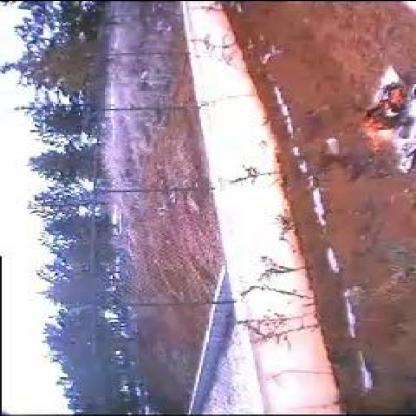-: (351, 152, 379, 169)
foggia-v2-map80-epoch100 - v1 4323: (362, 82, 404, 150)
